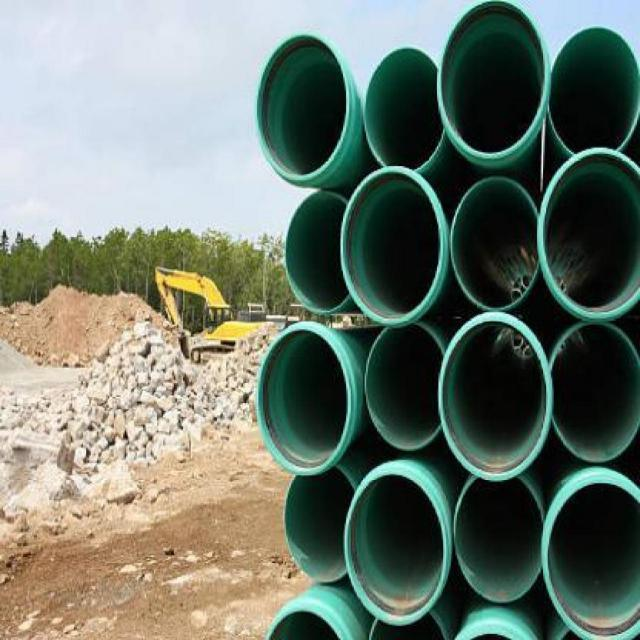pipe: (440, 313, 555, 483), (438, 2, 551, 167), (537, 146, 639, 322), (344, 465, 449, 627), (340, 168, 443, 326), (541, 476, 640, 639), (254, 31, 350, 181), (256, 329, 350, 477), (549, 322, 640, 465), (549, 25, 640, 155), (452, 177, 540, 309), (453, 477, 544, 602), (364, 323, 446, 451), (365, 47, 447, 173), (285, 466, 356, 583), (286, 191, 351, 315), (267, 603, 352, 640)
